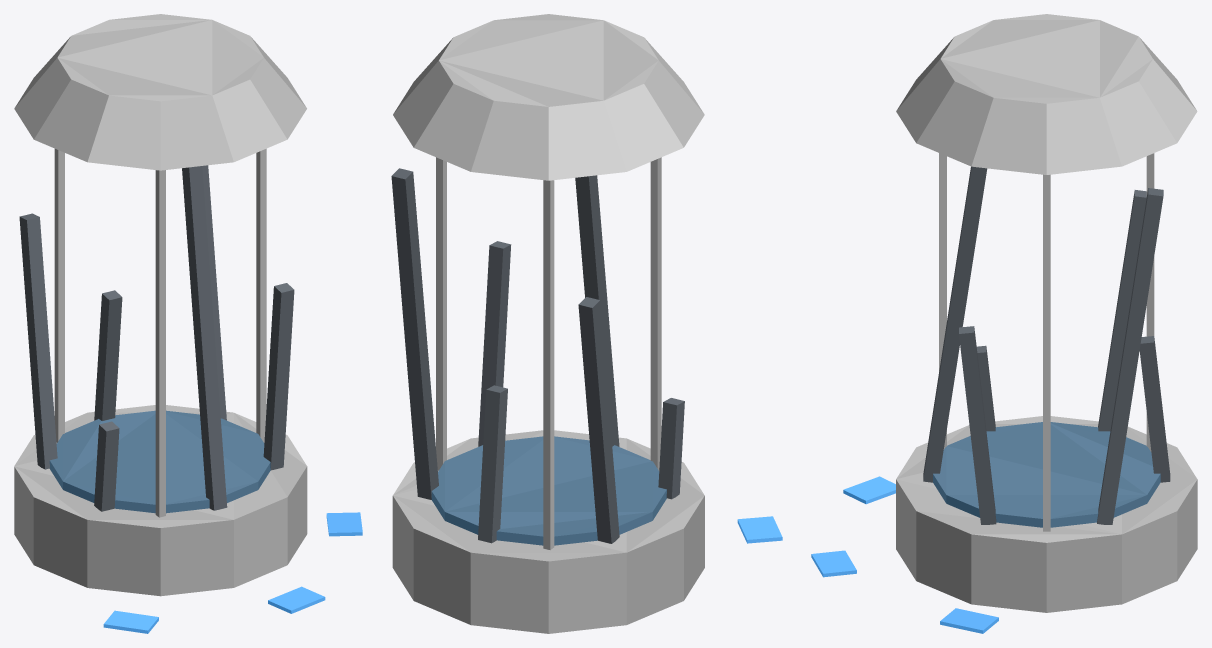
File: Containment_Tube_Broken.fbx
3 renders of one model, left to right at view 1: azimuth 30°, elevation 25°; view 2: azimuth 150°, elevation 25°; view 3: azimuth 270°, elevation 25°, orthographic. The views are drawn at different scales.
Visible parts, largest first — view 1: Containment_Tube_Broken; view 2: Containment_Tube_Broken; view 3: Containment_Tube_Broken.
Part boxes in pixels (x1,y1,x2,y2): Containment_Tube_Broken: (14,14,362,633); Containment_Tube_Broken: (391,14,782,633); Containment_Tube_Broken: (811,14,1197,633).
Bounding box in the file's own units: 1.89 × 2.8 × 2.
